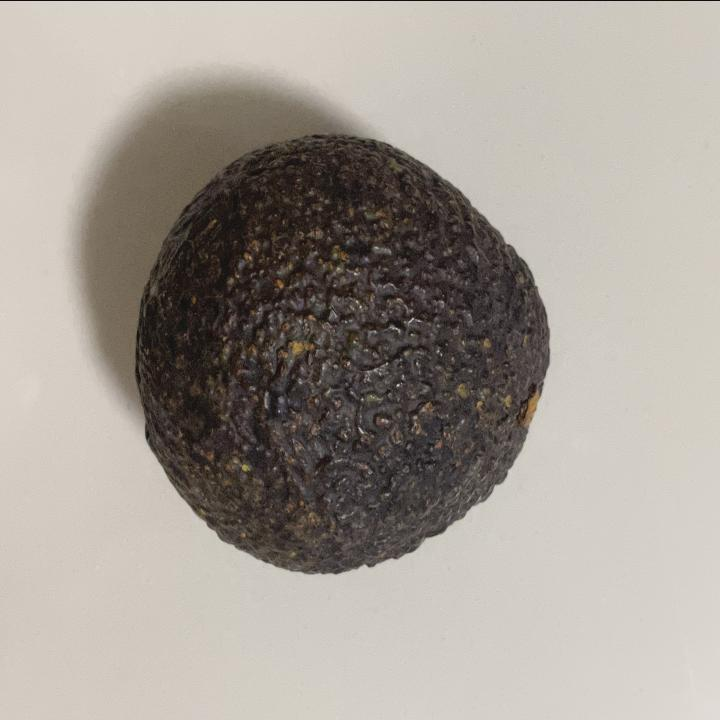Level2: (131, 128, 558, 579)
